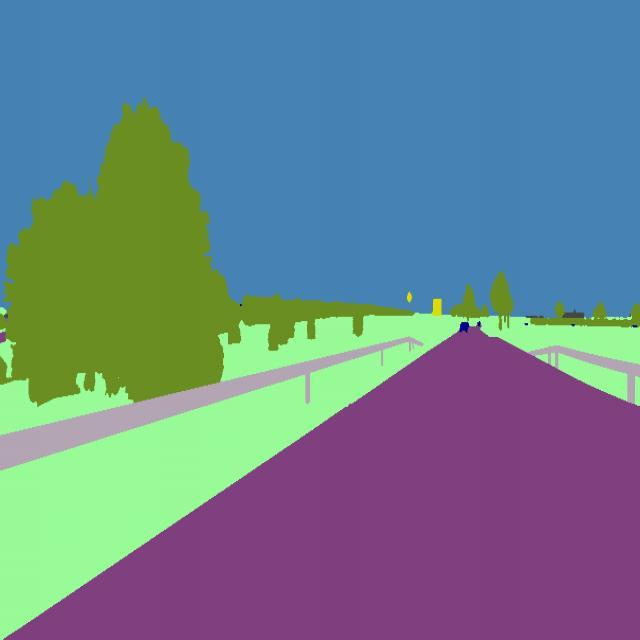safe: (458, 318, 470, 334)
